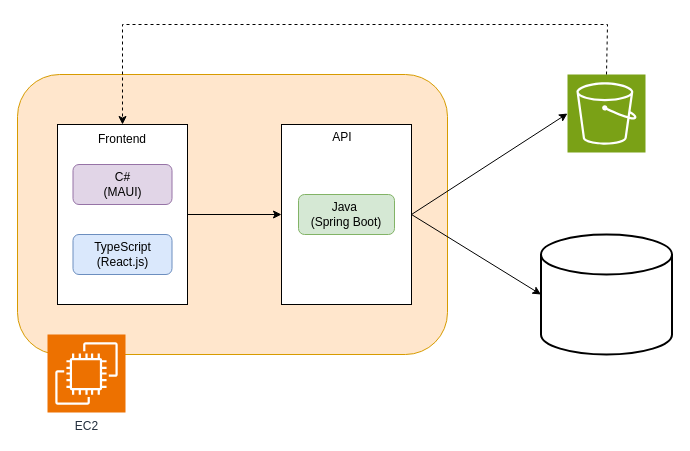
This 690x451 diagram has some shape labels left out. Each missing label, with the centre of its shape:
PostgreSQL: (x=606, y=294)
S3 (Multimedia Hosting): (x=606, y=113)
